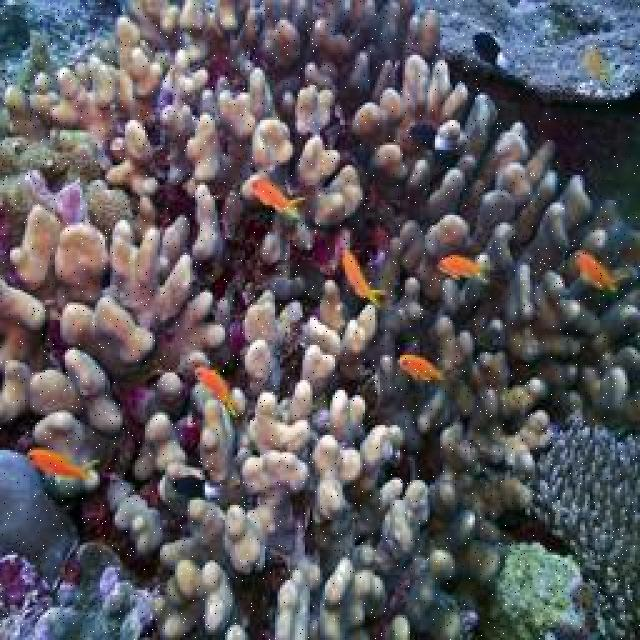fish: (341, 249, 387, 309), (254, 176, 309, 220), (27, 450, 98, 482), (195, 367, 238, 417), (399, 355, 451, 382), (439, 255, 488, 281)
reefs: (0, 0, 638, 638), (530, 422, 638, 638)
